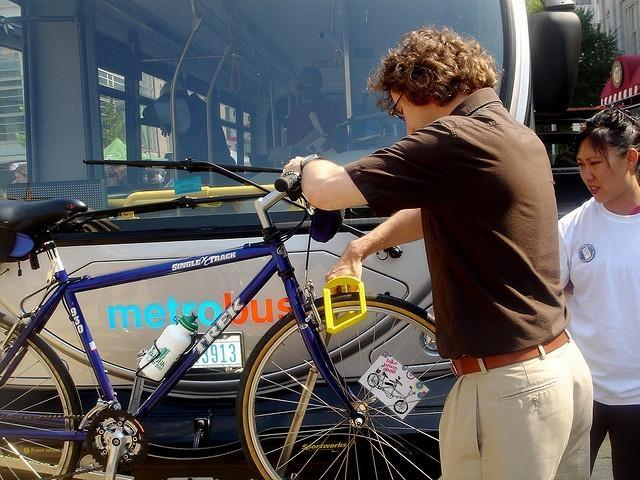bicycle: (0, 172, 457, 474)
bus: (0, 0, 587, 468)
